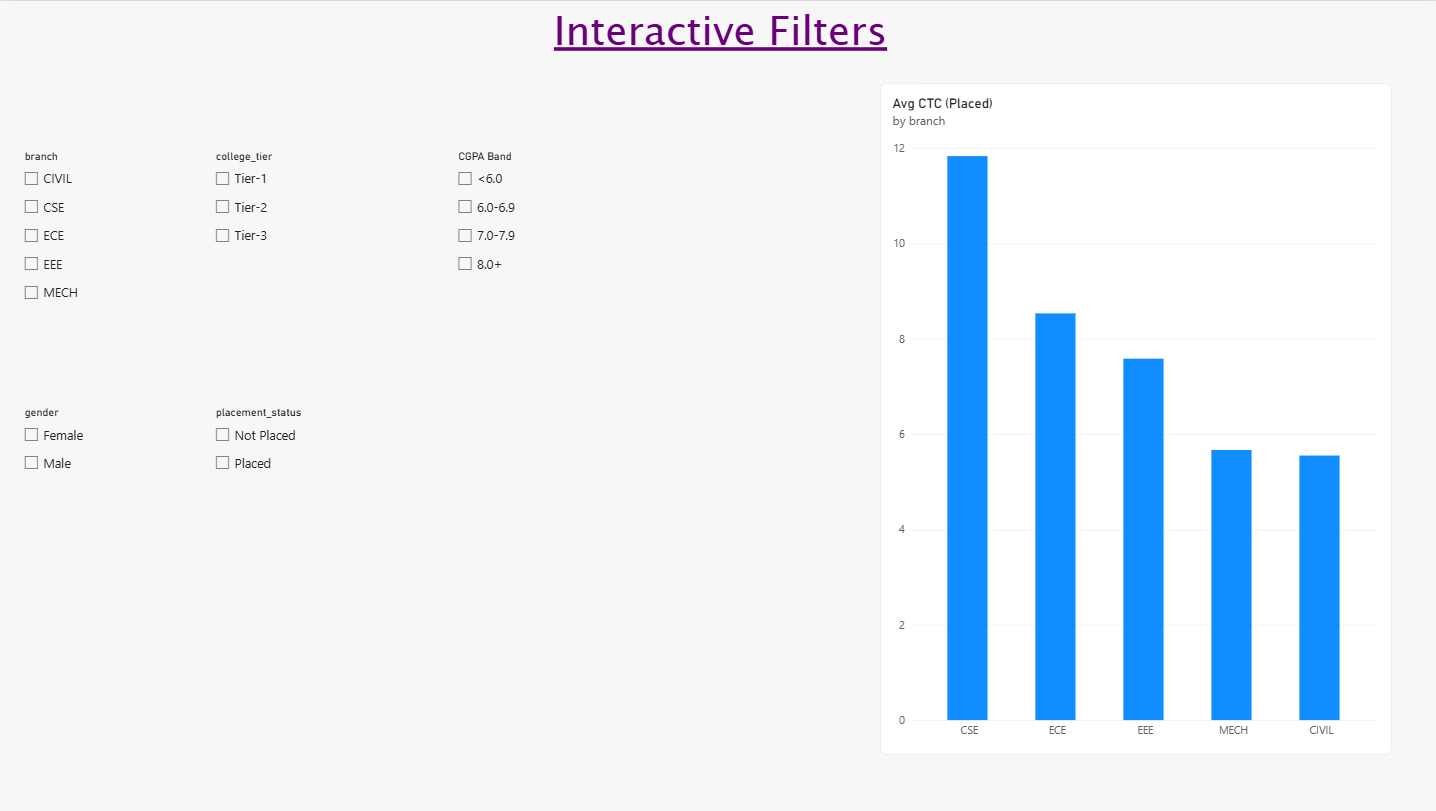

Layout of this report page (visuals, bound fields, positions):
{"tool":"powerbi","page":{"name":"Filters_Skills","canvas":[1920,1080],"ordinal":2},"visuals":[{"type":"slicer","fields":{"Values":["placements_data.branch"]},"box":[25,198.3,280,280],"z":0},{"type":"slicer","fields":{"Values":["placements_data.college_tier"]},"box":[280,197.5,280,280],"z":1000},{"type":"slicer","fields":{"Values":["placements_data.CGPA Band"]},"box":[602.5,197.5,280,280],"z":2000},{"type":"slicer","fields":{"Values":["placements_data.gender"]},"box":[25,540,280,242.5],"z":3000},{"type":"slicer","fields":{"Values":["placements_data.placement_status"]},"box":[280,540,380,290],"z":4000},{"type":"clusteredColumnChart","fields":{"Category":["placements_data.branch"],"Y":["placements_data.Avg CTC (Placed)"]},"box":[1172.5,110,682,894],"z":5000},{"type":"textbox","box":[602,0,718,92],"z":6000}]}

Visuals, with their boxes in screenshot pixels (x1, y1, x2, y2), scaled from the page's 1920x1080 canvas onto the 1436x811 screenshot:
slicer - placements_data.branch: 19,149,228,359
slicer - placements_data.college_tier: 209,148,419,359
slicer - placements_data.CGPA Band: 451,148,660,359
slicer - placements_data.gender: 19,406,228,588
slicer - placements_data.placement_status: 209,406,494,623
clusteredColumnChart - placements_data.branch x placements_data.Avg CTC (Placed): 877,83,1387,754
textbox: 450,0,987,69
